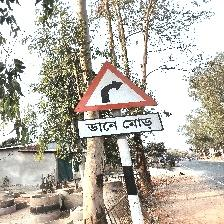Right-turn: (73, 62, 162, 139)
